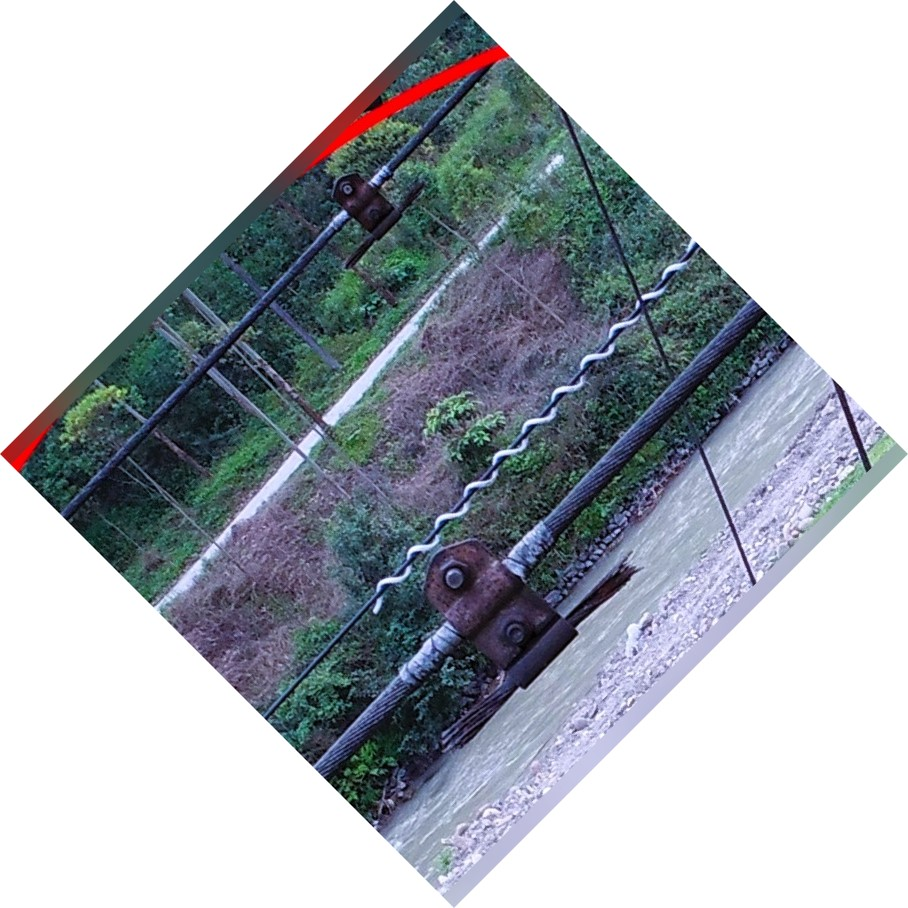Damage of shockproof hammer: (406, 506, 663, 764), (309, 160, 443, 283)
